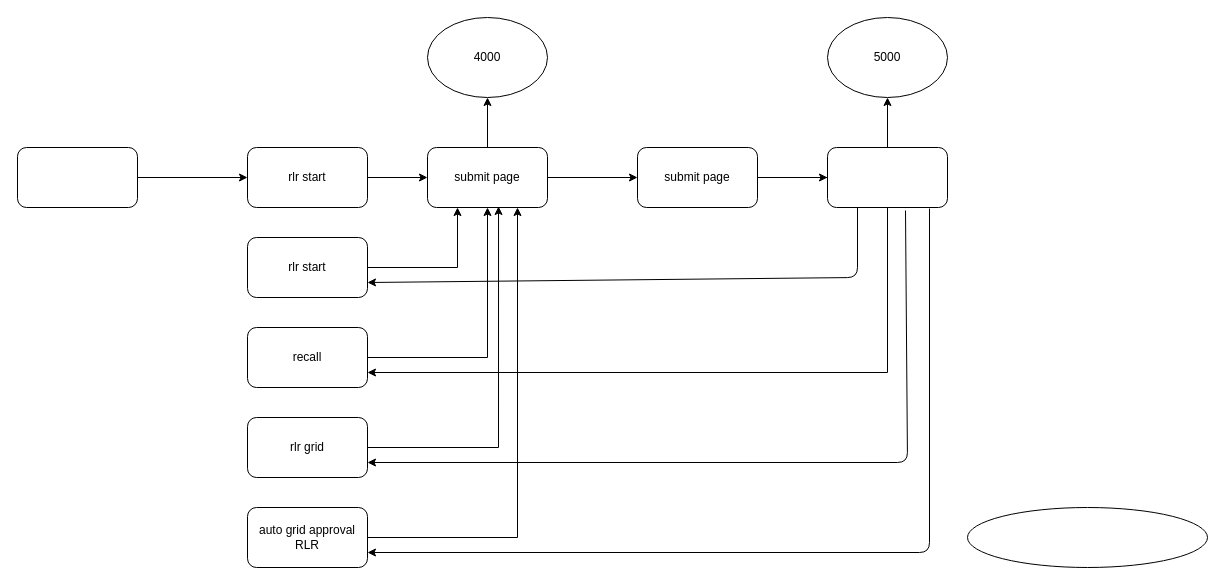
Image size: 1225x585. Some labels were removed from this diagram. The box of each missing label's shape, as (x1, y1, x2, y2) in pixels:
Approve: (826, 146, 948, 208)
FOUR_P_APPROVED_EXTERNAL: (966, 506, 1208, 568)
price approved: (16, 146, 138, 208)
